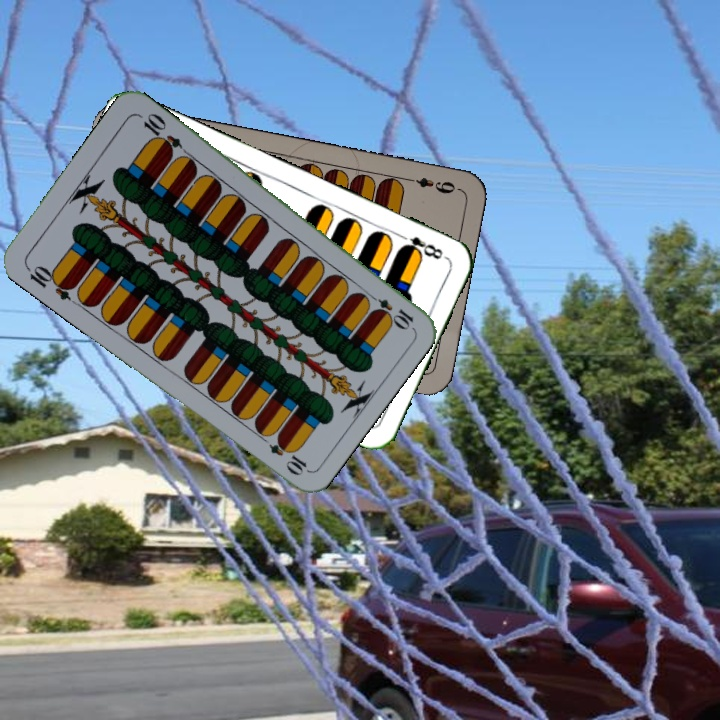E10: (22, 261, 78, 303), (362, 289, 416, 331)
E8: (393, 229, 446, 262)
E9: (403, 173, 461, 197)
